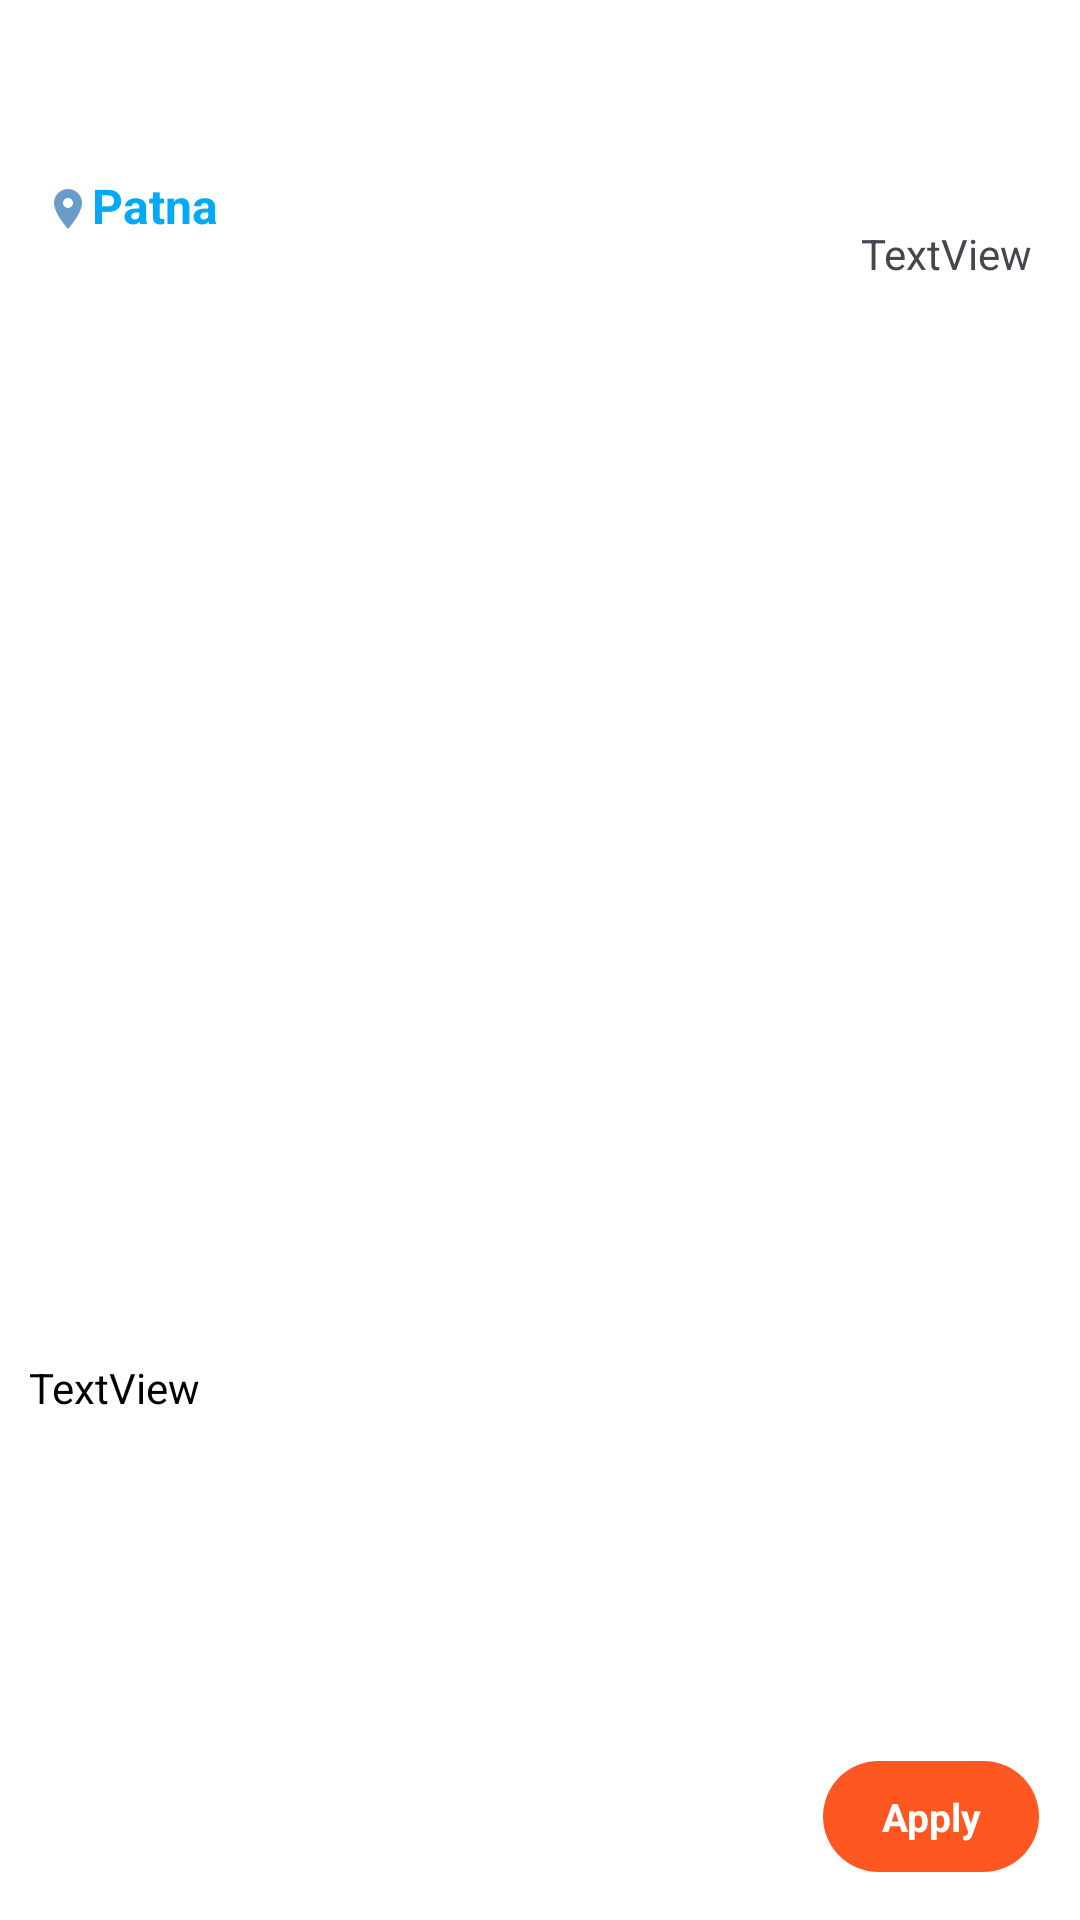

Icons on this 1080*1920 Android screen, each with its box as (x1, y1, x2, y2):
locationicon: (54, 189, 82, 229)
